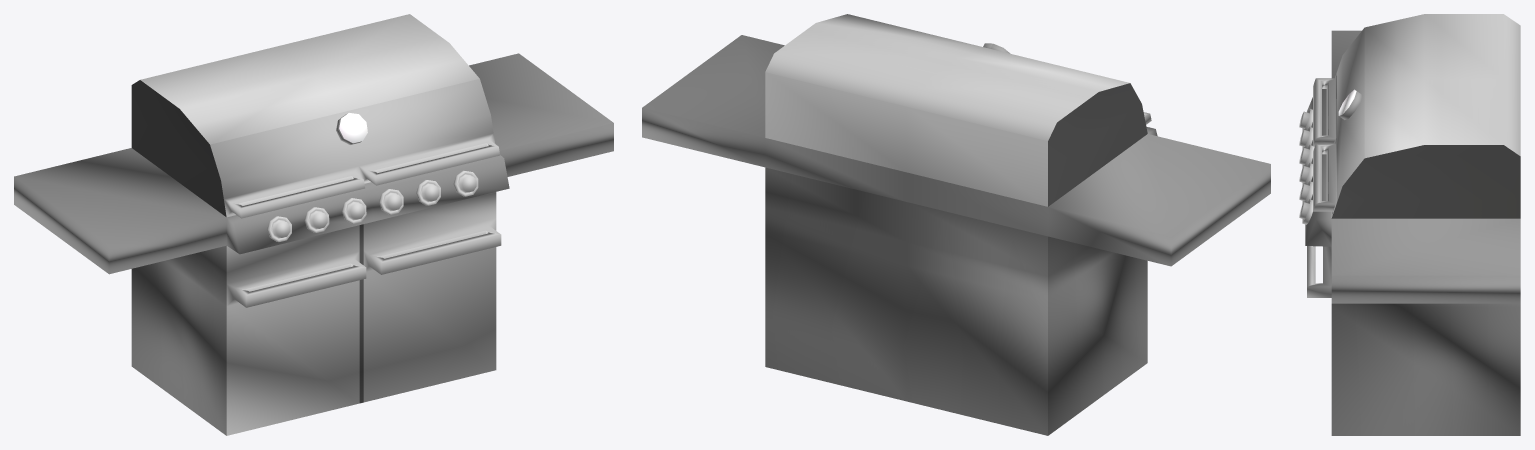
The model's file is BarbecueGrill.glb.
3 views of the same model, side by side, from view 1: azimuth 30°, elevation 25°; view 2: azimuth 150°, elevation 25°; view 3: azimuth 270°, elevation 25° (orthographic). The views are drawn at different scales.
Visible parts, largest first — view 1: BarbecueGrill; view 2: BarbecueGrill; view 3: BarbecueGrill.
Boxes of the visible parts, box(x1,y1,x2,y2) form: BarbecueGrill: box(14, 14, 613, 435); BarbecueGrill: box(642, 14, 1270, 435); BarbecueGrill: box(1299, 14, 1520, 435).
Bounding box in the file's own units: 2.71 × 1.5 × 1.03.
Materials: 1 (1 with a texture image).
